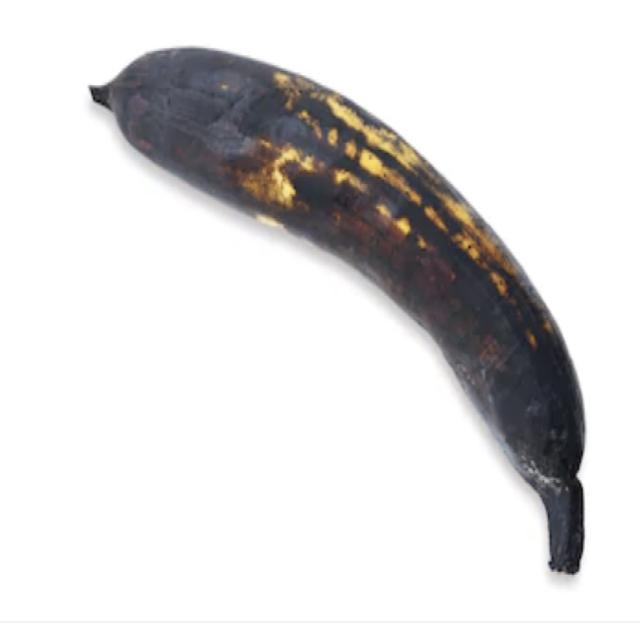Rotten: (58, 39, 604, 592)
